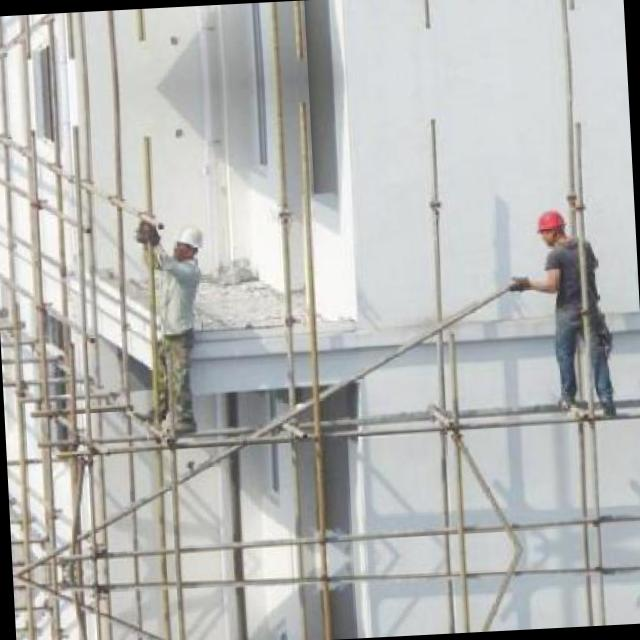helmet: (166, 220, 208, 265), (533, 208, 569, 248)
